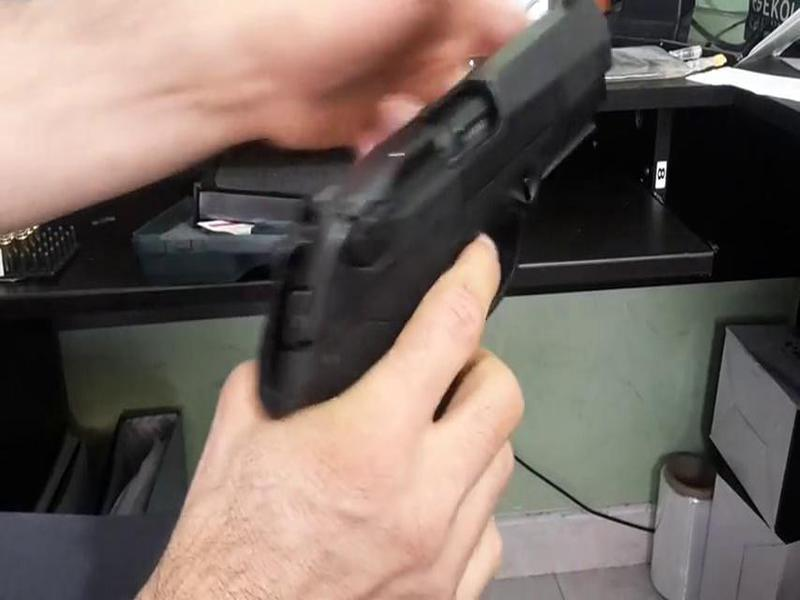Pistola: (251, 3, 619, 472)
